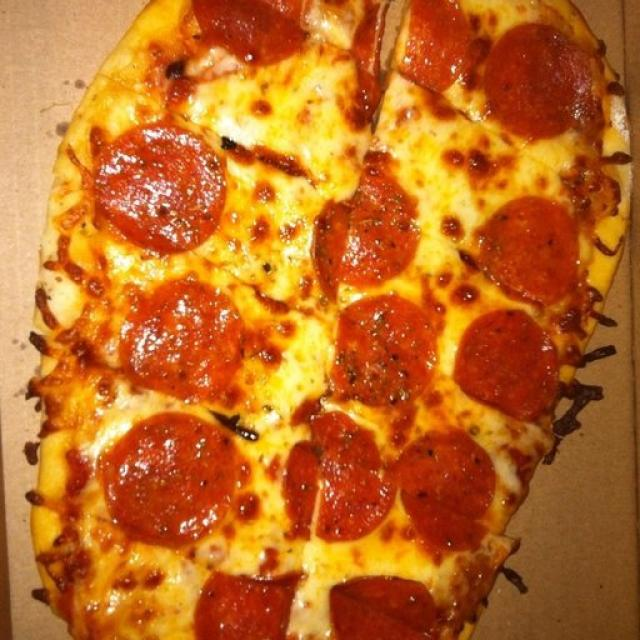Pepperoni: (96, 412, 229, 542), (99, 123, 221, 250), (293, 411, 391, 543), (130, 278, 240, 390), (325, 166, 419, 296), (399, 420, 485, 548), (483, 186, 572, 308), (344, 294, 436, 412), (460, 311, 556, 418), (499, 26, 581, 136), (200, 0, 306, 70), (198, 569, 297, 640), (403, 0, 473, 92), (335, 581, 442, 640)
Pizza: (24, 0, 631, 640)
